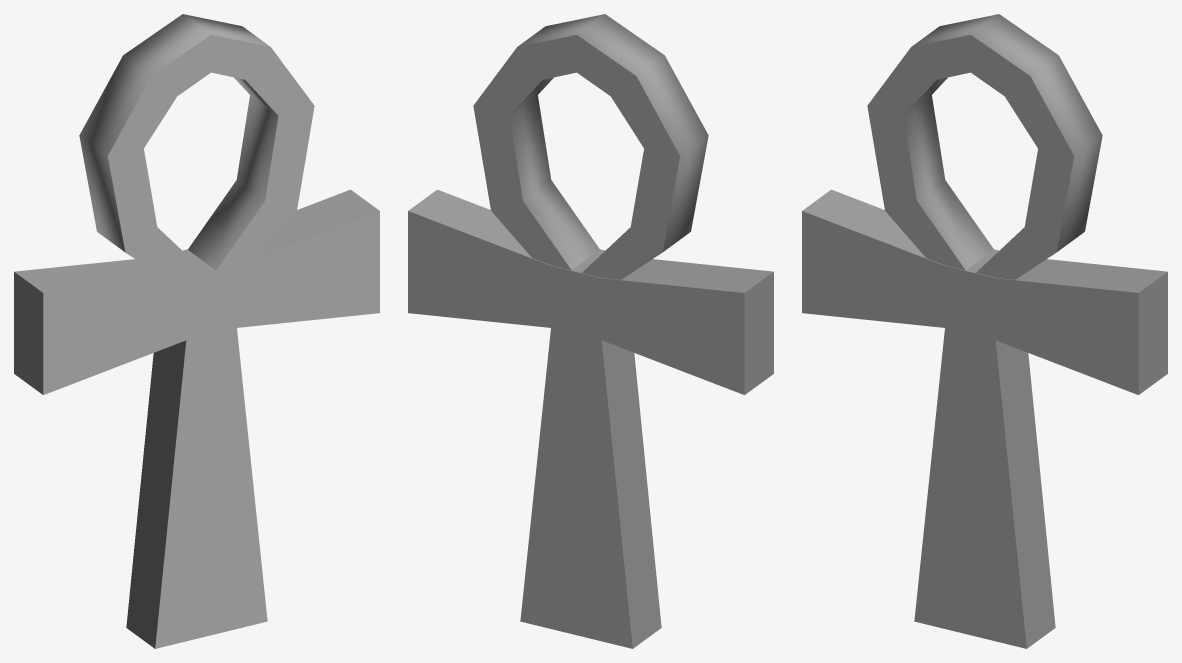
Rendered from Ankh Blank.fbx.
3 views of the same model, side by side, from view 1: azimuth 30°, elevation 25°; view 2: azimuth 150°, elevation 25°; view 3: azimuth 330°, elevation 25° (orthographic).
Visible parts, largest first — view 1: Ankh Blank; view 2: Ankh Blank; view 3: Ankh Blank.
Part boxes in pixels (x1,y1,x2,y2): Ankh Blank: (14, 14, 379, 648); Ankh Blank: (408, 14, 773, 648); Ankh Blank: (802, 14, 1167, 648).
Bounding box in the file's own units: 2.06 × 0.3106 × 3.52.
Materials: 1 (1 with a texture image).
